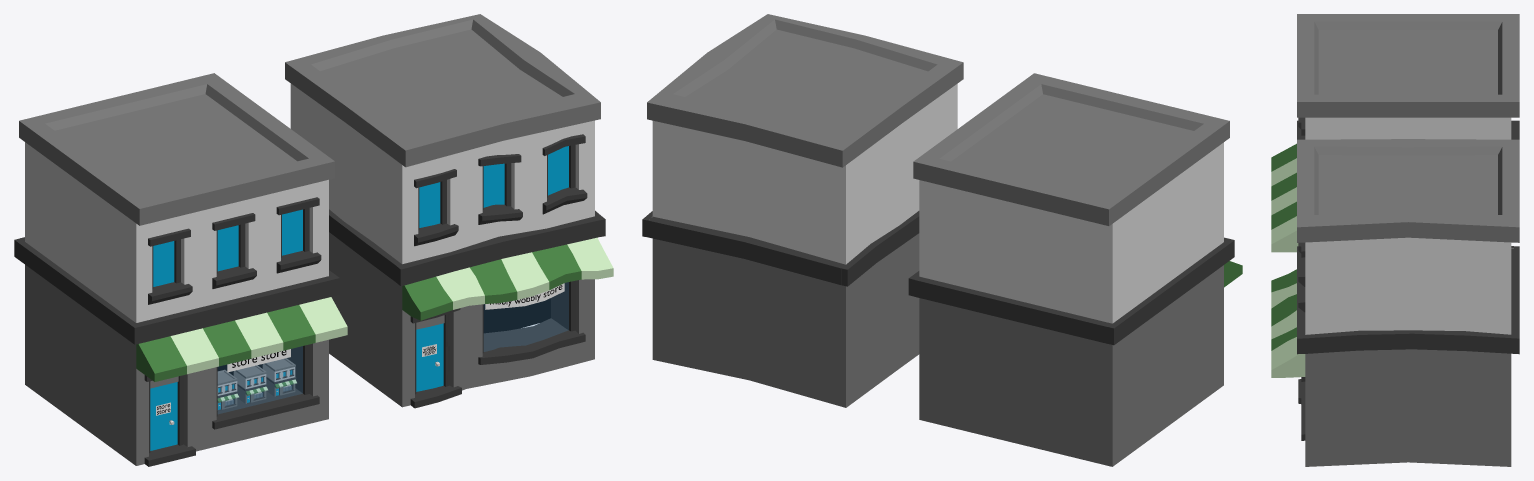
Rendered from stores.glb.
3 renders of one model, left to right at view 1: azimuth 30°, elevation 25°; view 2: azimuth 150°, elevation 25°; view 3: azimuth 270°, elevation 25°, orthographic. The views are drawn at different scales.
Parts seen in each view (by area): view 1: building_A, building_A.004; view 2: building_A, building_A.004; view 3: building_A.004, building_A.
Part boxes in pixels (left/top/right/bottom): building_A: left=14, top=73, right=347, bottom=466; building_A.004: left=285, top=14, right=613, bottom=408; building_A: left=908, top=73, right=1242, bottom=466; building_A.004: left=642, top=14, right=963, bottom=407; building_A.004: left=1271, top=139, right=1519, bottom=466; building_A: left=1271, top=14, right=1519, bottom=252.
Bounding box in the file's own units: 38.96 × 21.12 × 19.29.
